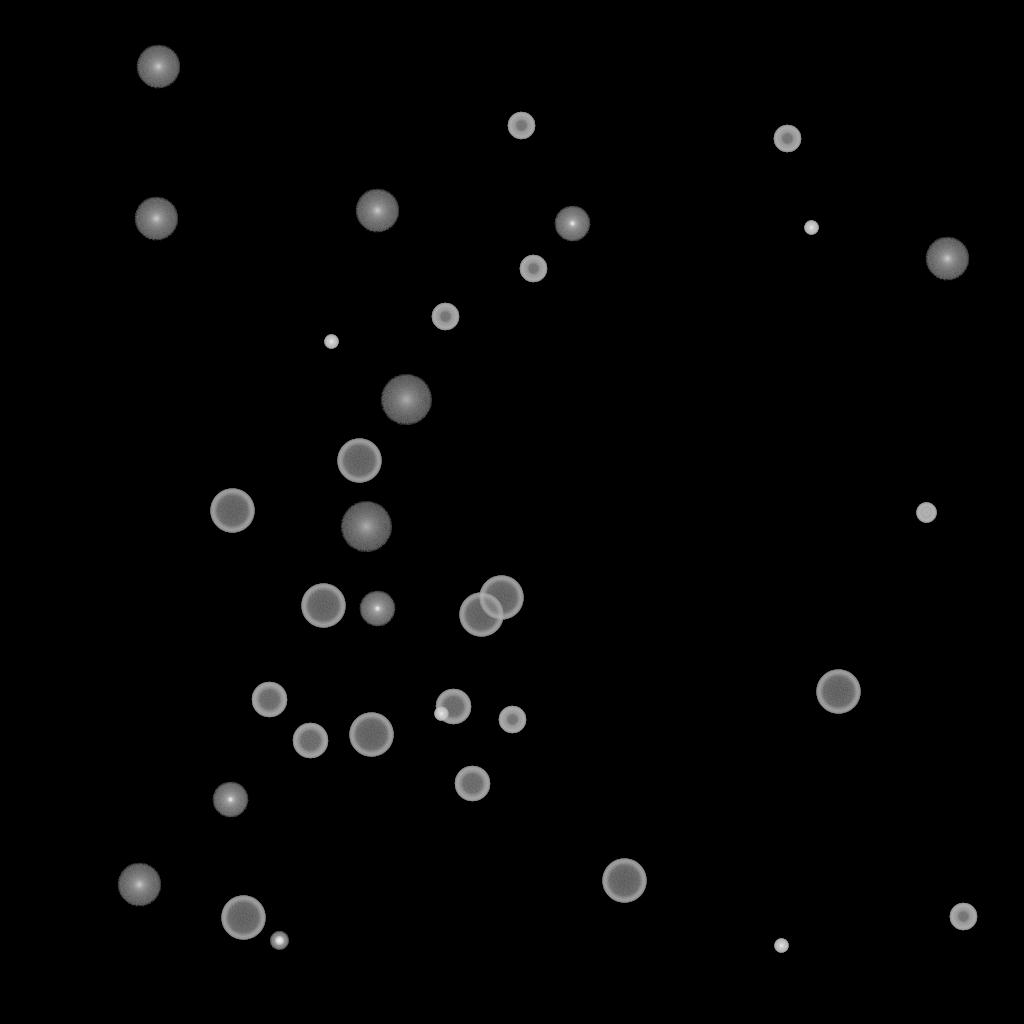depth:-20: (270, 932, 288, 950)
depth:-30: (774, 939, 788, 953), (324, 335, 338, 349), (434, 707, 448, 721), (804, 221, 818, 235)
depth:-40: (916, 503, 936, 523)
depth:-50: (519, 255, 547, 283), (949, 903, 977, 931), (498, 706, 526, 734), (507, 112, 535, 140), (773, 125, 801, 153), (431, 303, 459, 331)
depth:-60: (454, 766, 490, 802), (435, 689, 471, 725), (292, 723, 328, 759), (251, 682, 287, 718)
depth:-70: (479, 576, 523, 620), (337, 439, 381, 483), (349, 713, 393, 757), (210, 489, 254, 533), (602, 859, 646, 903), (459, 593, 503, 637), (301, 584, 345, 628), (816, 670, 860, 714), (221, 896, 265, 940)
depth:0: (212, 782, 248, 818), (359, 591, 395, 627), (554, 206, 590, 242)
depth:10: (136, 45, 180, 89), (925, 237, 969, 281), (117, 863, 161, 907), (355, 189, 399, 233), (134, 197, 178, 241)
depth:20: (380, 375, 432, 425), (340, 502, 392, 552)
